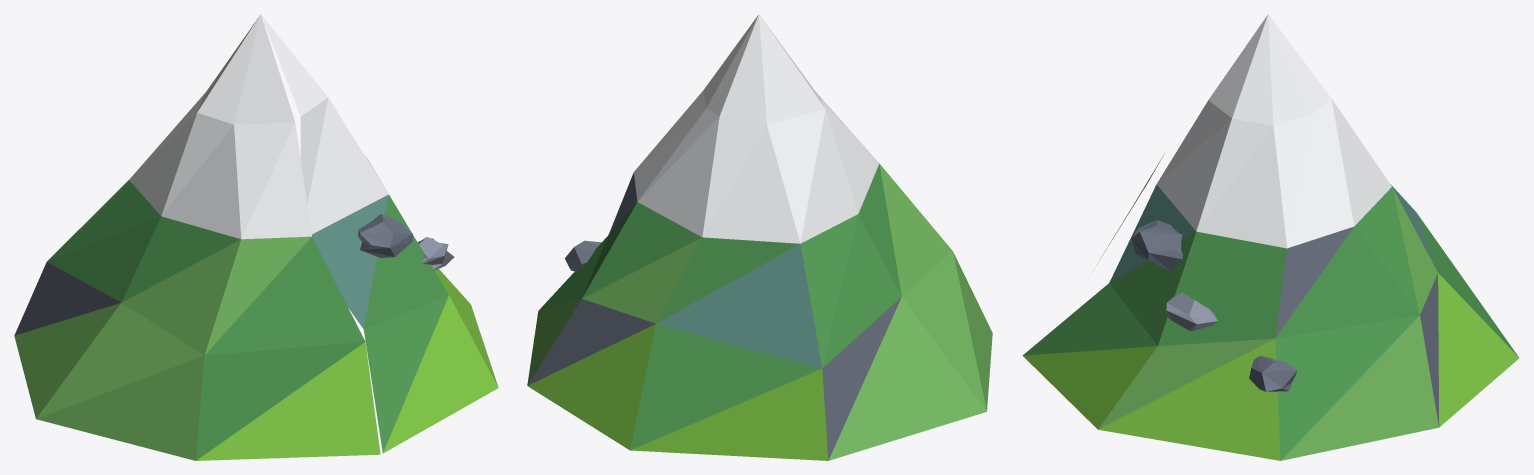
The model's file is montana_nevada_v1.glb.
The picture shows the model from 3 angles, left to right: view 1: azimuth 30°, elevation 25°; view 2: azimuth 150°, elevation 25°; view 3: azimuth 270°, elevation 25°; orthographic projection.
Parts seen in each view (by area): view 1: montana_montana, montana_nieve, montana_montana_claro, montana_pasto, montana_montana_azul, montana_roca_oscura, montana_saliente_3, montana_saliente_2; view 2: montana_nieve, montana_montana, montana_montana_claro, montana_pasto, montana_montana_azul, montana_roca_oscura, montana_saliente_1; view 3: montana_montana, montana_nieve, montana_pasto, montana_montana_claro, montana_roca_oscura, montana_montana_azul, montana_saliente_3, montana_saliente_1, montana_saliente_2.
Part boxes in pixels (x1,y1,x2,y2): montana_montana: (47,180,448,460); montana_nieve: (129,14,388,239); montana_montana_claro: (14,236,311,460); montana_pasto: (196,269,498,460); montana_montana_azul: (312,194,388,328); montana_roca_oscura: (14,262,120,335); montana_saliente_3: (358,214,412,257); montana_saliente_2: (417,237,448,269); montana_nieve: (634,14,879,243); montana_montana: (538,164,901,450); montana_montana_claro: (527,163,992,460); montana_pasto: (528,324,828,460); montana_montana_azul: (656,244,822,368); montana_roca_oscura: (527,172,901,460); montana_saliente_1: (565,240,601,271); montana_montana: (1023,187,1518,460); montana_nieve: (1156,14,1391,248); montana_pasto: (1023,273,1519,460); montana_montana_claro: (1098,153,1438,460); montana_roca_oscura: (1275,226,1439,427); montana_montana_azul: (1109,184,1437,282); montana_saliente_3: (1132,220,1182,271); montana_saliente_1: (1249,356,1296,391); montana_saliente_2: (1166,292,1217,331).
Size of the model in its own units: 39.38 by 29.48 by 38.82.
